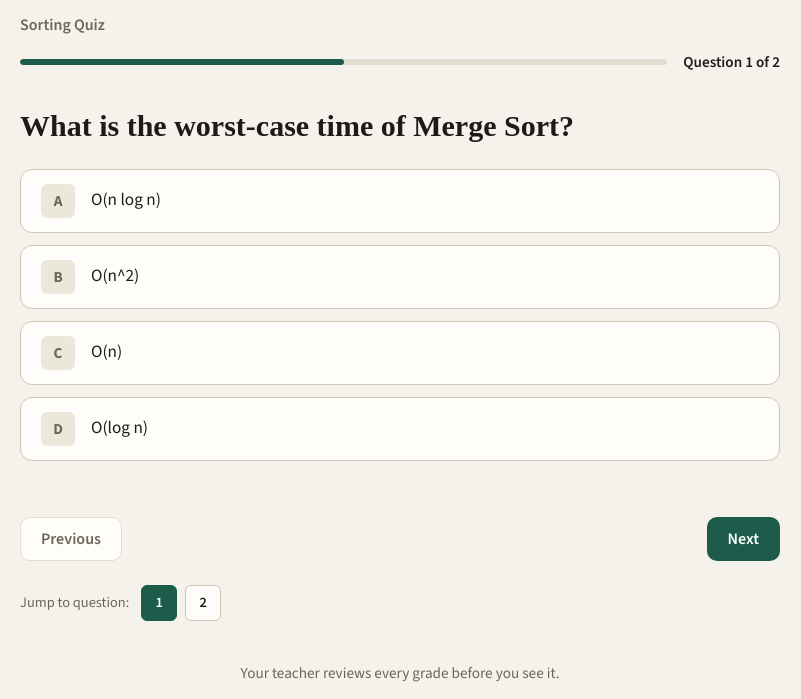
Take page (restyle) › marks the selected option with the accent style and the word "Selected"
The image size is (801, 699).
Check: the text "Selected" is not shown
Click the radio button named "A. O(n log n)": (58, 201) [20, 169, 780, 233]
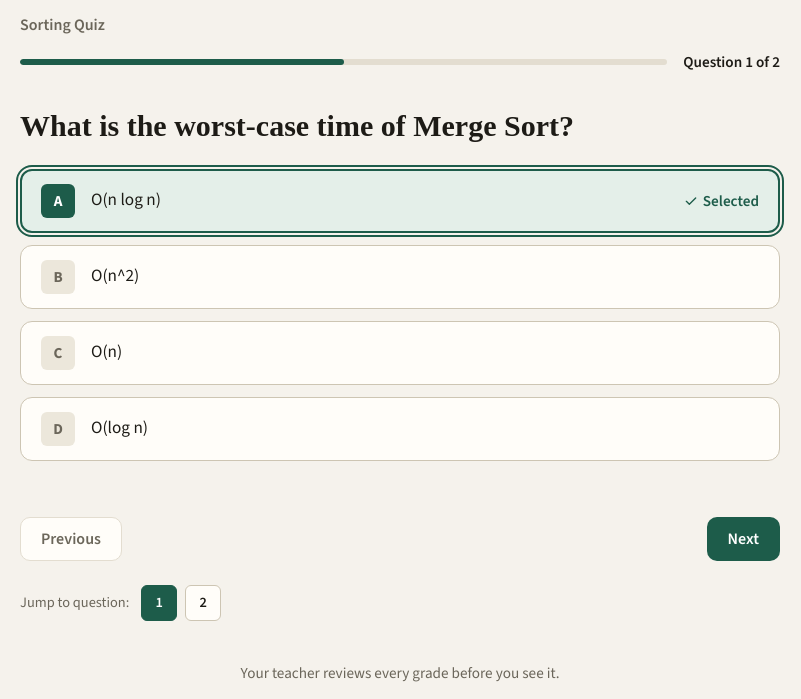
Check: the radio button named "A. O(n log n)" is checked, box [20, 169, 780, 233]
Check: the text "Selected" is shown once, box [683, 189, 759, 213]
